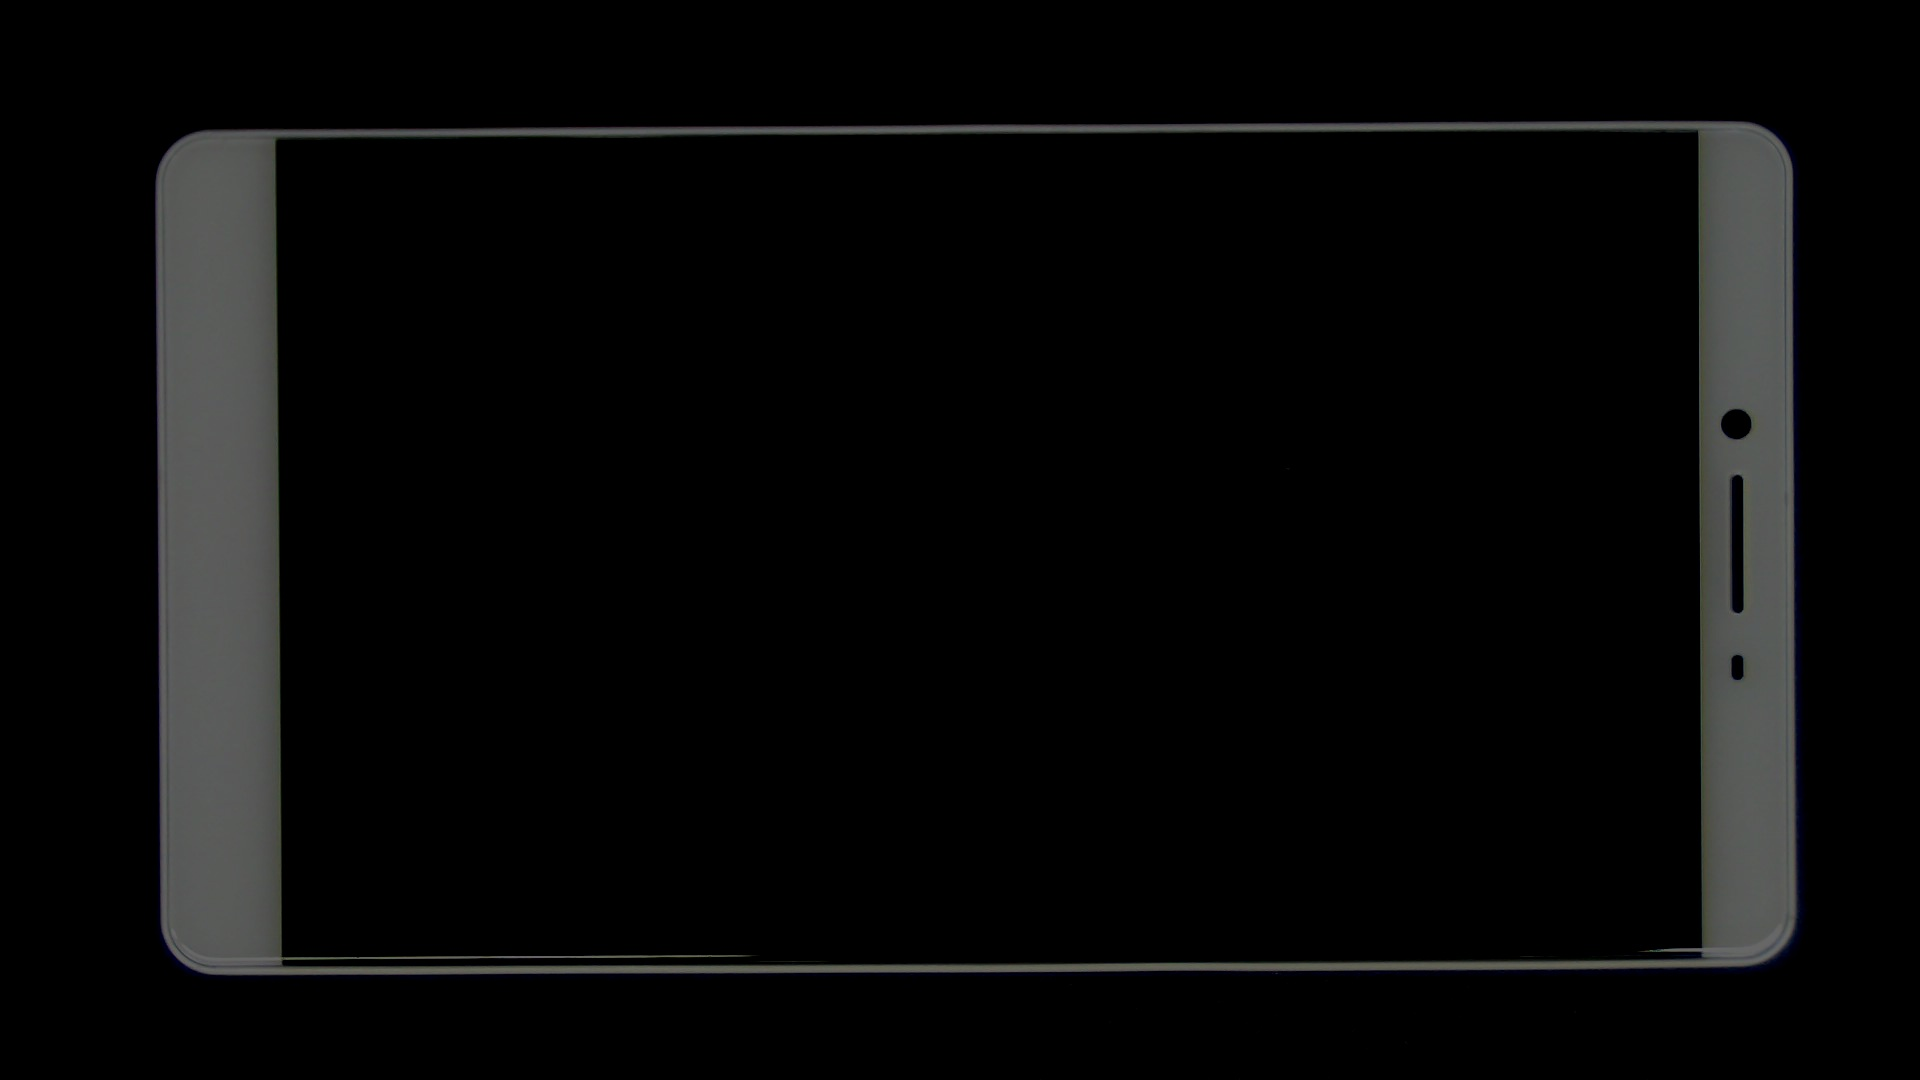oil: (626, 232, 1878, 698), (582, 148, 1745, 444), (141, 75, 422, 235)
